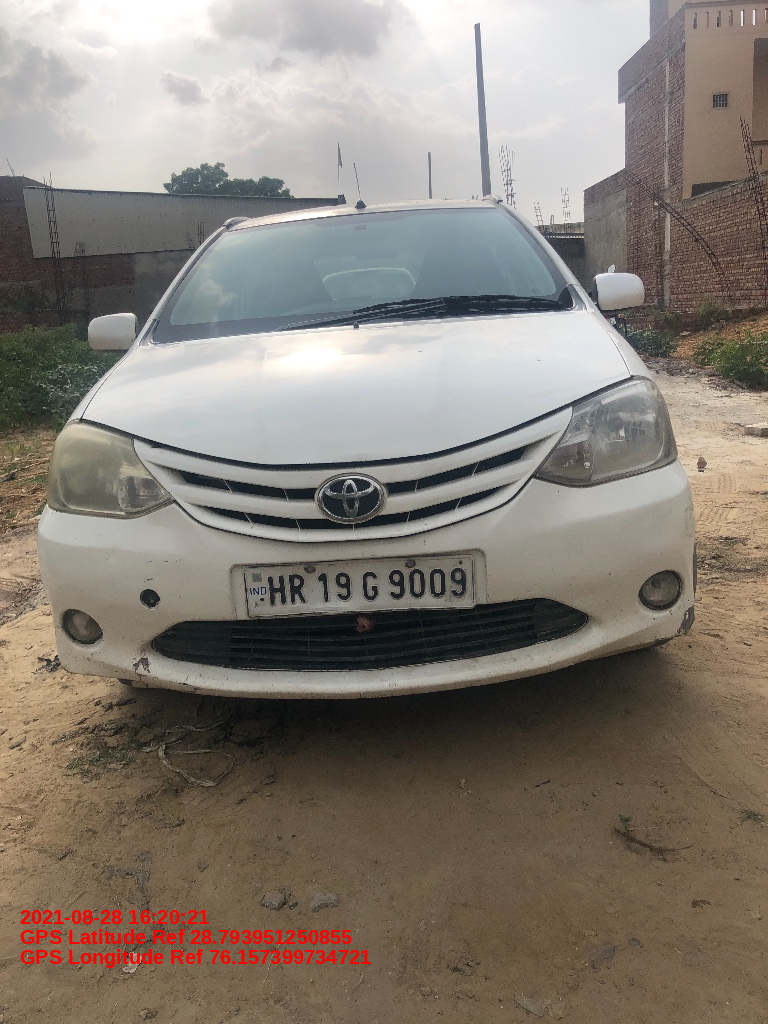Cracked: (669, 603, 700, 641)
Scratched: (122, 653, 162, 689), (174, 670, 218, 698), (141, 550, 188, 567), (141, 573, 166, 587)
